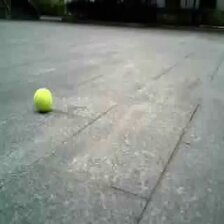tennis: (34, 89, 52, 110)
